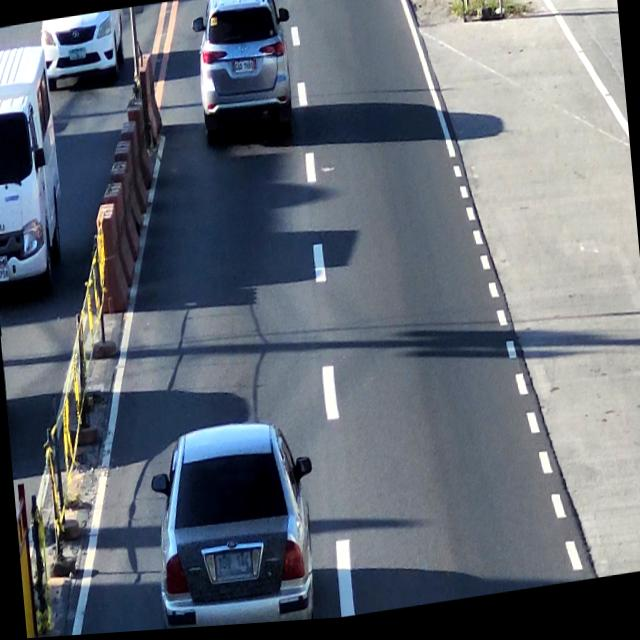Car: (148, 416, 320, 632), (190, 0, 294, 156)
License-Plate: (212, 550, 256, 587), (232, 59, 256, 80)
